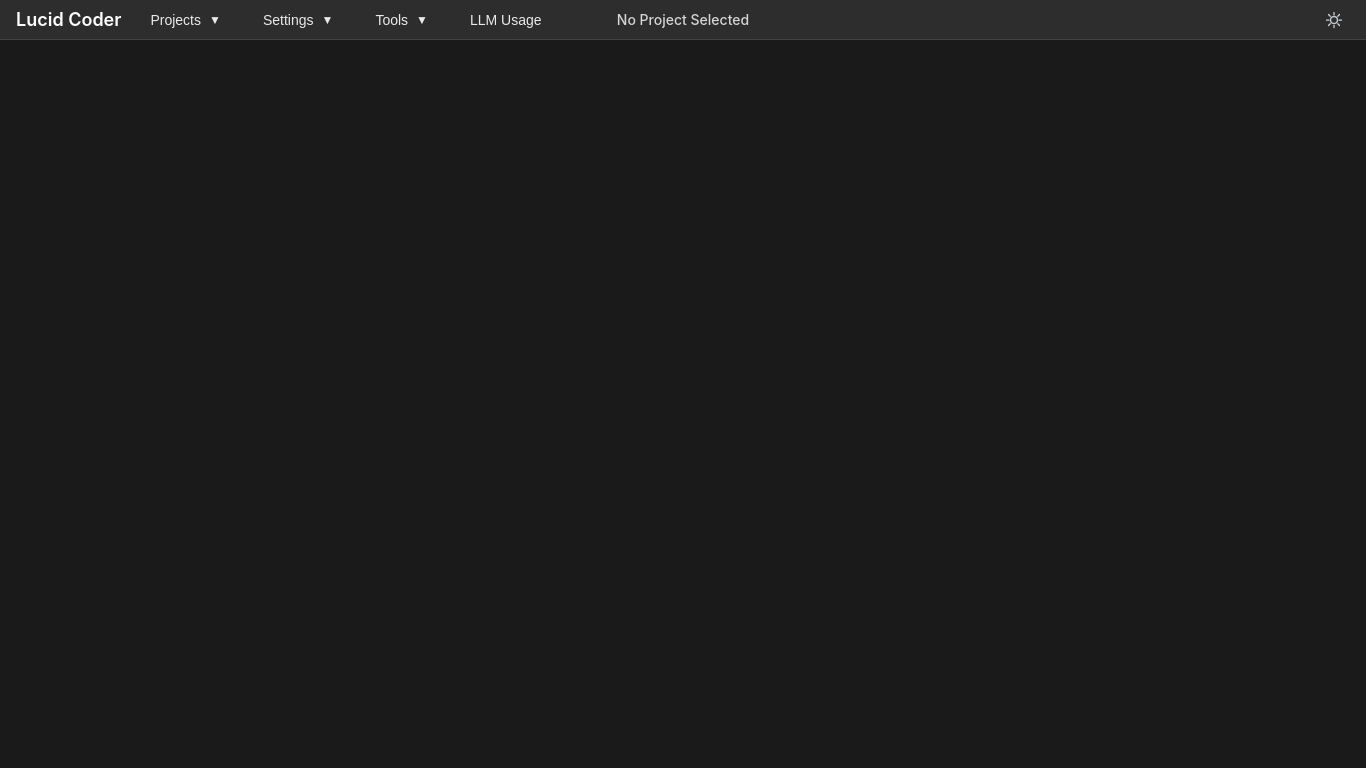
Scenario: Navigation Component › configure LLM option opens configuration modal
Click the button "Settings ▼" at (298, 20), box [250,4,346,34]
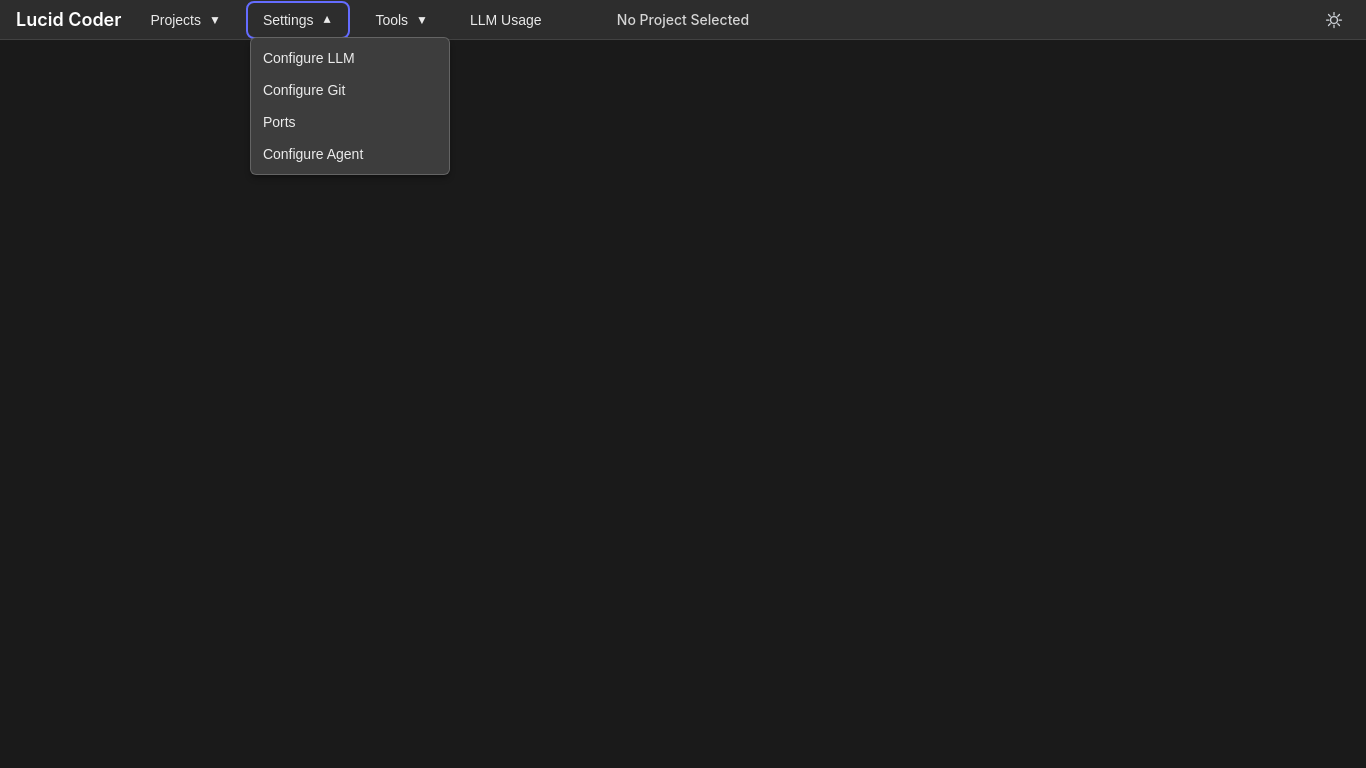
Click the button "Configure LLM" at (350, 58), box [251,42,449,74]
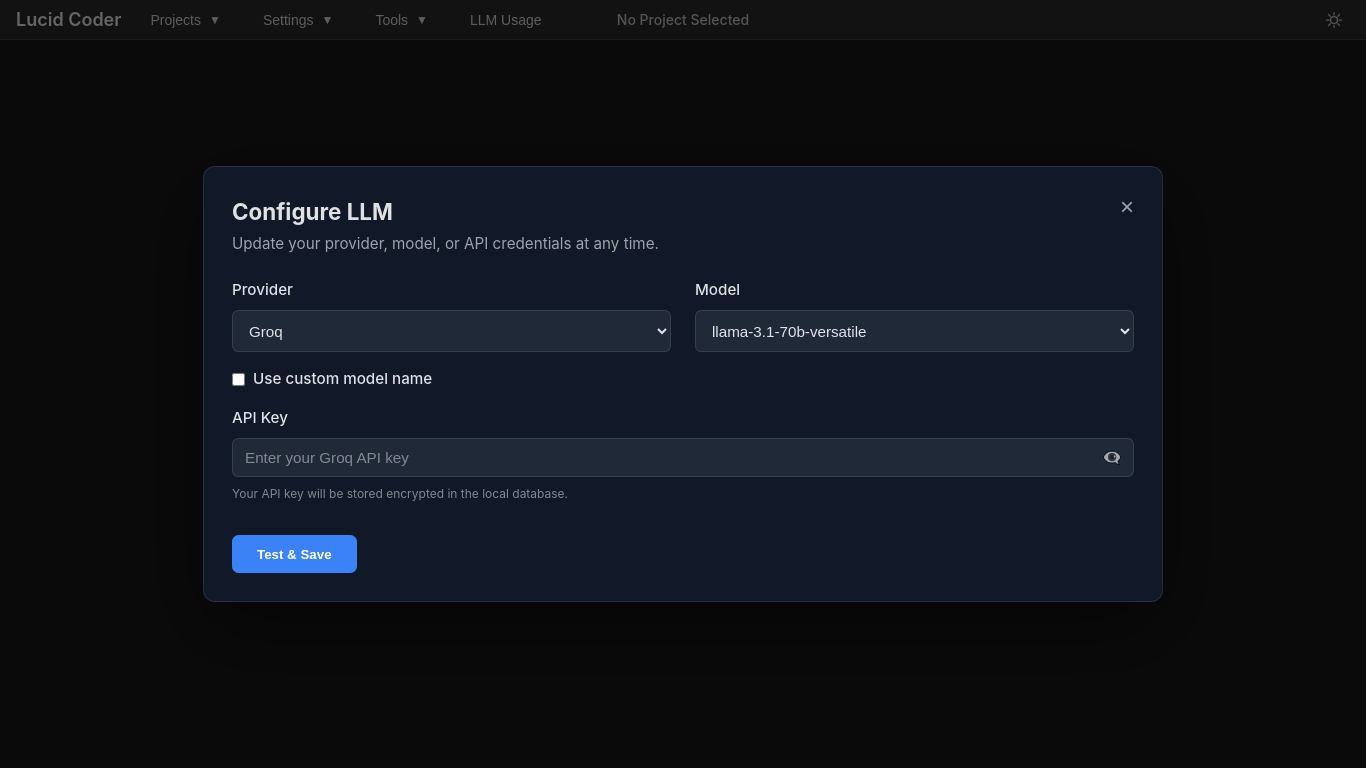
Now the heading "Configure LLM" is shown, box [232,198,393,225]
Now the dialog with test id "llm-config-modal" is shown
